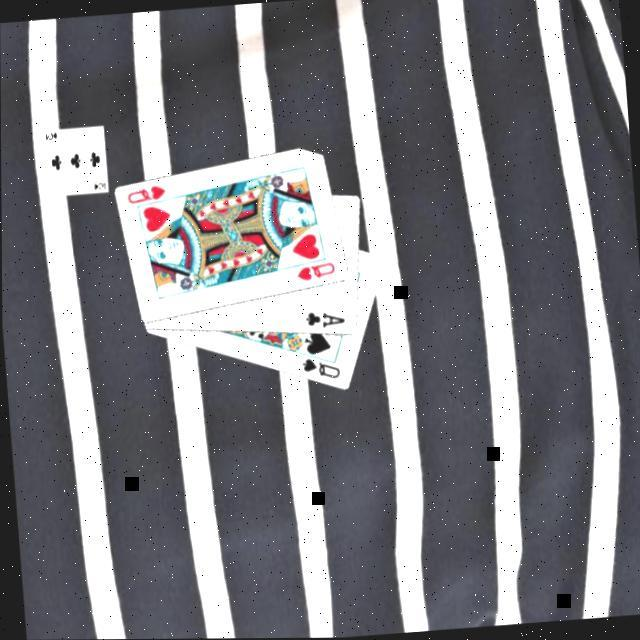AC: (301, 305, 346, 330)
QH: (122, 179, 174, 209), (292, 257, 337, 282)
QS: (297, 351, 342, 382)
